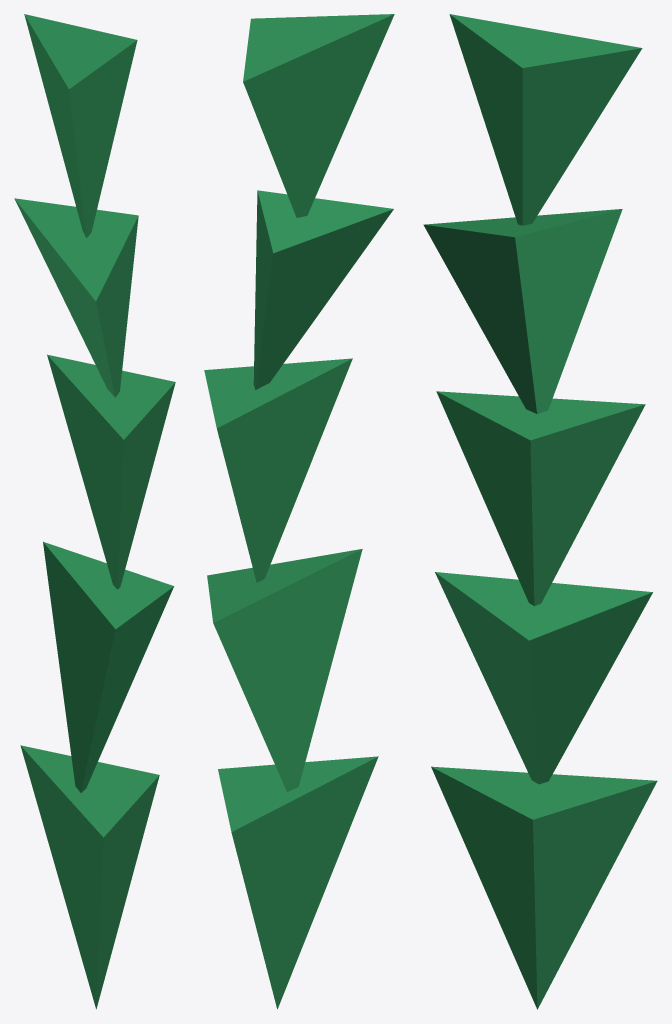
The model's file is algea2.obj.
3 renders of one model, left to right at view 1: azimuth 30°, elevation 25°; view 2: azimuth 150°, elevation 25°; view 3: azimuth 270°, elevation 25°, orthographic. The views are drawn at different scales.
Size of the model in its own units: 1.07 by 6.75 by 1.49.
